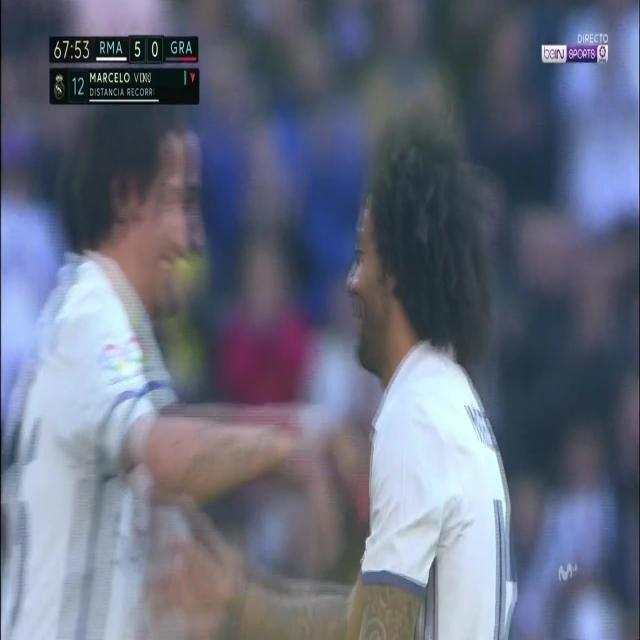Player: (192, 99, 524, 640), (0, 101, 292, 639)
